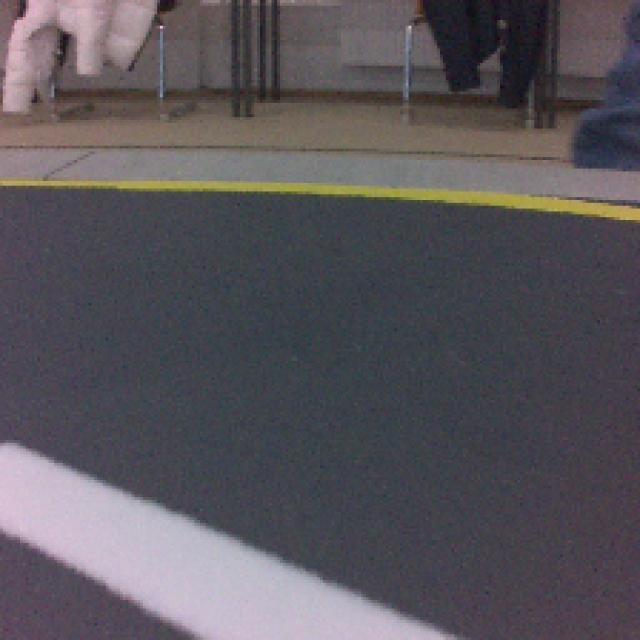Pedestrian crosswalk: (0, 448, 456, 640)
